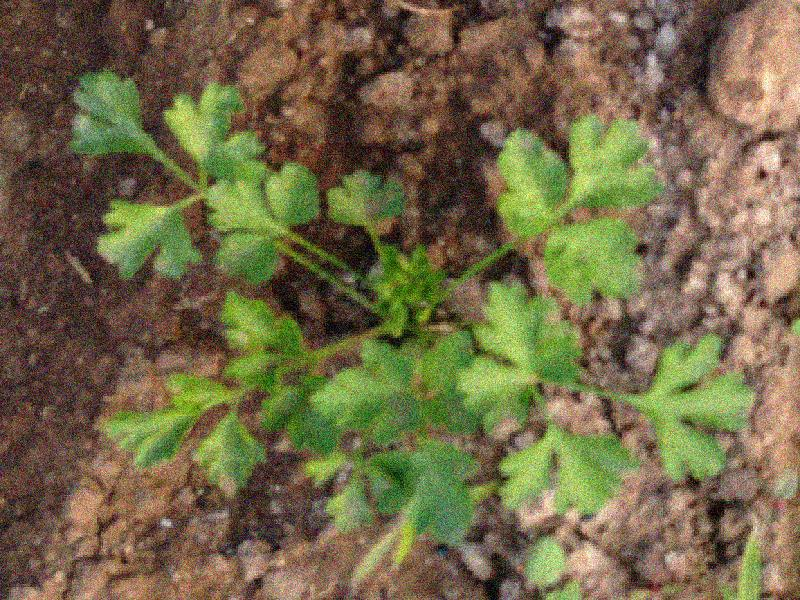radish: (69, 69, 756, 545)
